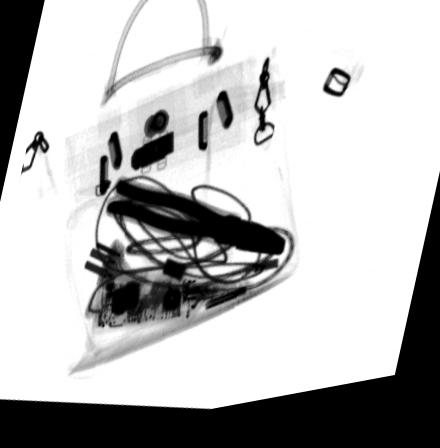Pliers: (102, 178, 286, 267)
